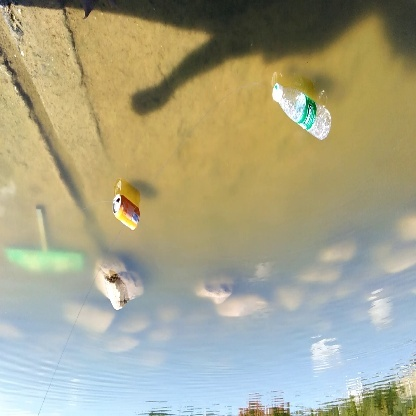bottle: (267, 76, 335, 145), (110, 192, 147, 231)
